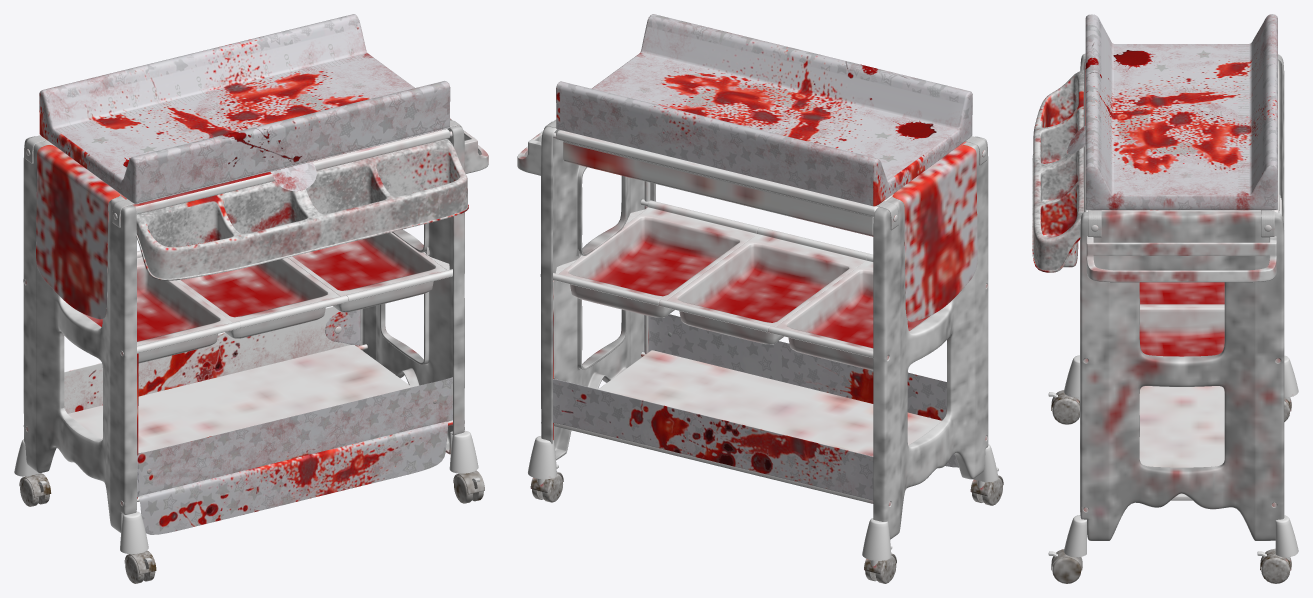
File: baby_tale_from_cursed_hospital.glb
3 views of the same model, side by side, from view 1: azimuth 30°, elevation 25°; view 2: azimuth 150°, elevation 25°; view 3: azimuth 270°, elevation 25° (orthographic). The views are drawn at different scales.
Visible parts, largest first — view 1: polySurface97; view 2: polySurface97; view 3: polySurface97.
Part boxes in pixels (x1,y1,x2,y2): polySurface97: (14, 14, 488, 583); polySurface97: (517, 14, 1003, 583); polySurface97: (1032, 14, 1298, 583).
Bounding box in the file's own units: 0.7973 × 0.8303 × 0.4883.
1 material, 1 textured.
